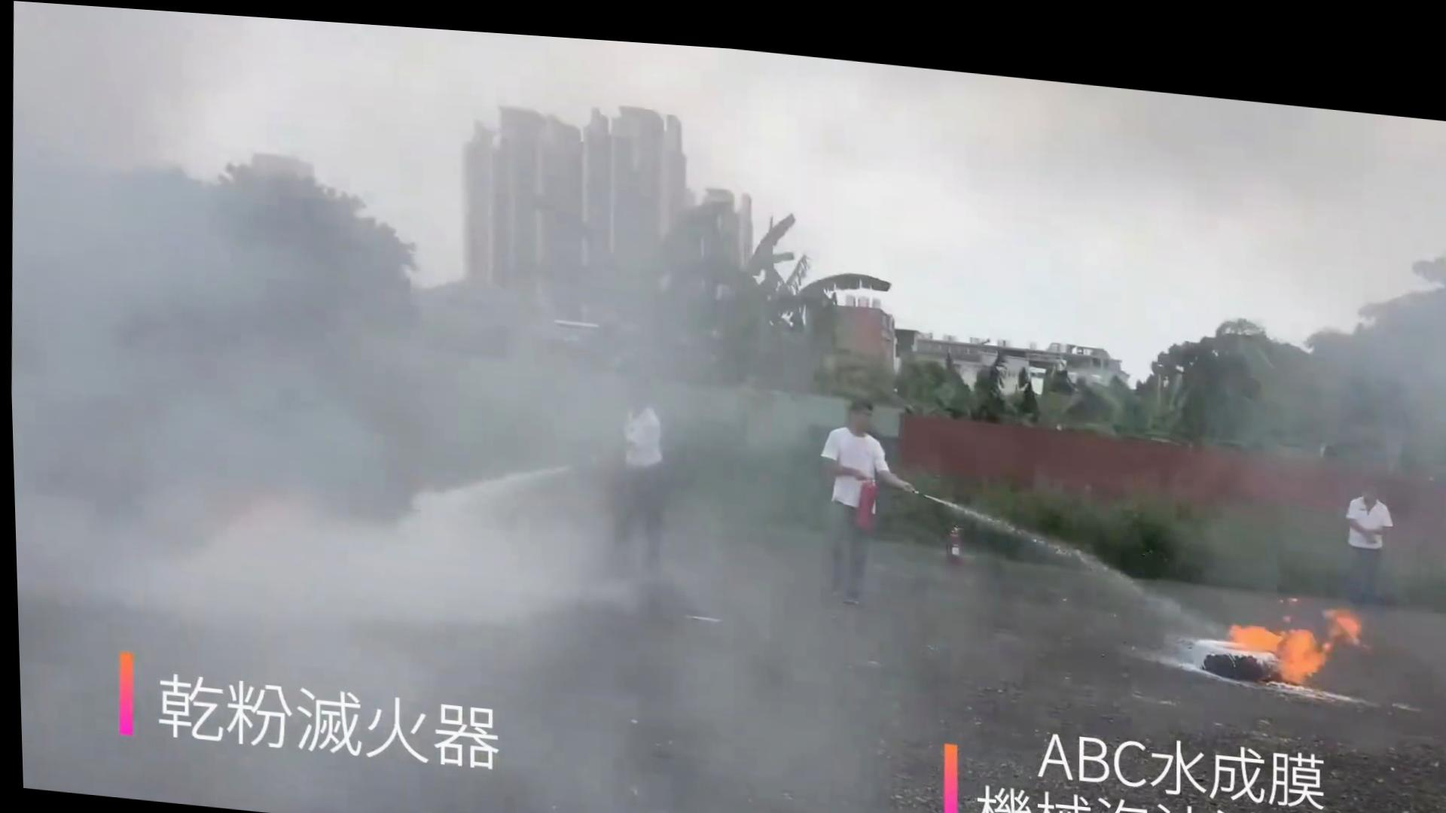FireExtinguisher: (847, 461, 884, 529)
not: (1189, 571, 1367, 690), (901, 405, 1006, 468), (103, 641, 142, 750), (934, 720, 965, 813)
